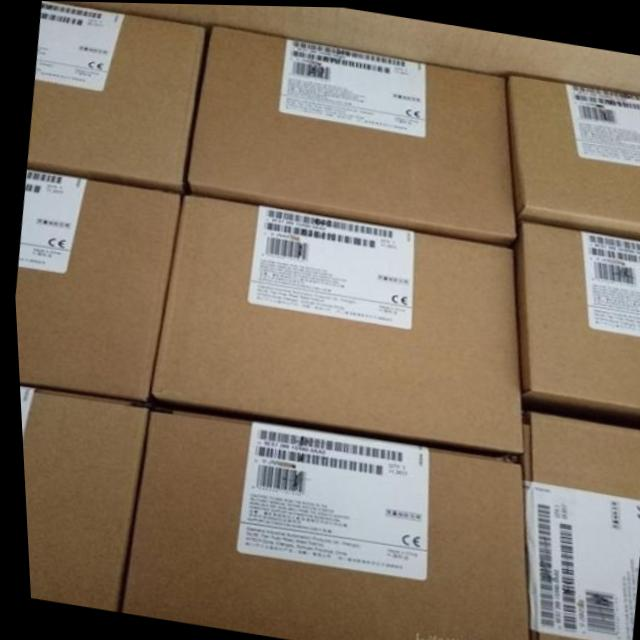box: (145, 189, 520, 457), (116, 402, 524, 640), (186, 23, 515, 243), (88, 2, 640, 91), (13, 165, 184, 401), (28, 1, 206, 192), (16, 384, 146, 611), (524, 411, 640, 640), (514, 215, 640, 419), (508, 72, 640, 236)
